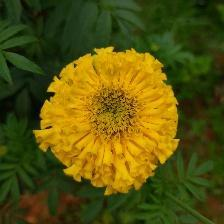marigold: (38, 44, 185, 195)
